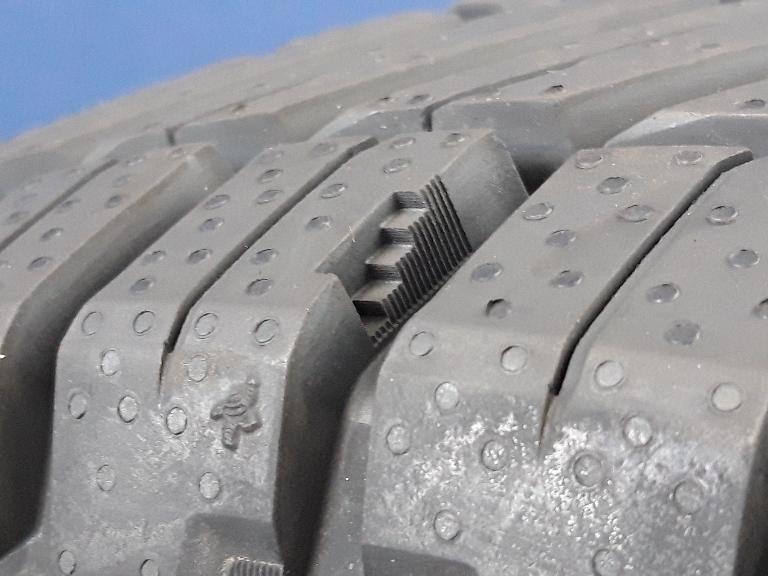temoin:100: (306, 167, 485, 361)
